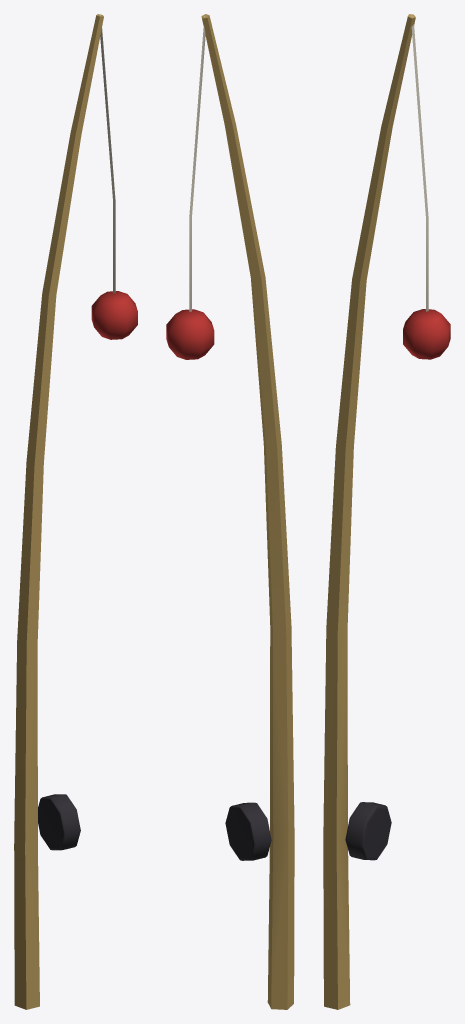
Rendered from carry_rod.glb.
3 renders of one model, left to right at view 1: azimuth 30°, elevation 25°; view 2: azimuth 210°, elevation 25°; view 3: azimuth 330°, elevation 25°, orthographic. The views are drawn at different scales.
Parts seen in each view (by area): view 1: carry_rod; view 2: carry_rod; view 3: carry_rod.
Part boxes in pixels (<box>): carry_rod: <box>14,14,137,1009</box>; carry_rod: <box>166,14,294,1009</box>; carry_rod: <box>323,14,450,1009</box>.
Bounding box in the file's own units: 0.1647 × 1.28 × 0.07.
